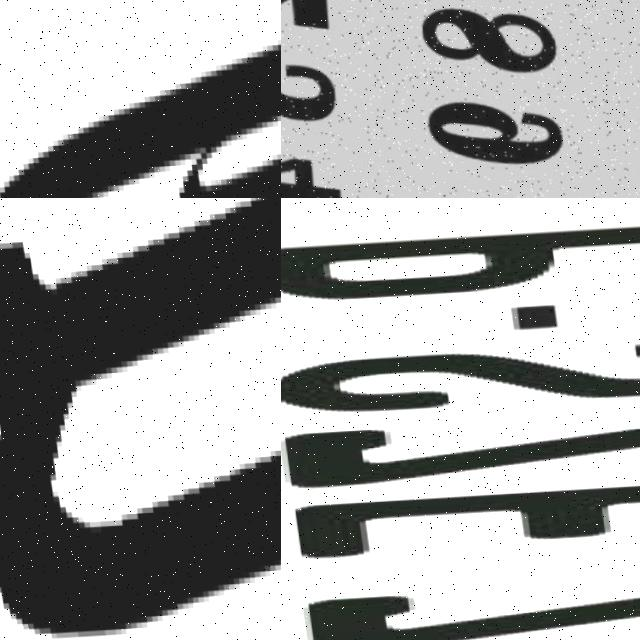3: (281, 37, 348, 140)
4: (281, 129, 345, 198)
6: (0, 0, 281, 198)
7: (281, 402, 640, 494), (282, 565, 640, 640)
8: (377, 0, 564, 95)
9: (388, 83, 582, 189)
E: (281, 470, 640, 559)
L: (281, 198, 640, 227)
N: (0, 198, 281, 640)
P: (281, 220, 640, 310)
S: (281, 335, 640, 427)
